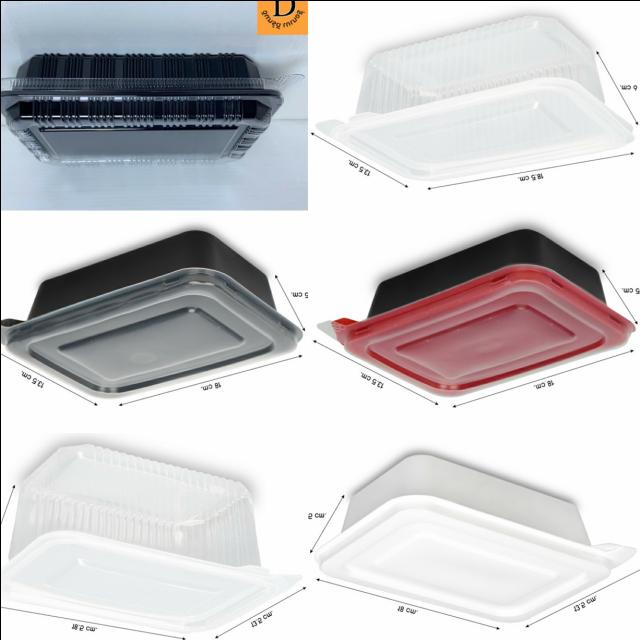plastik: (0, 444, 298, 631), (314, 454, 635, 622), (318, 230, 634, 395), (318, 16, 632, 180), (0, 231, 302, 398), (0, 53, 281, 163)
